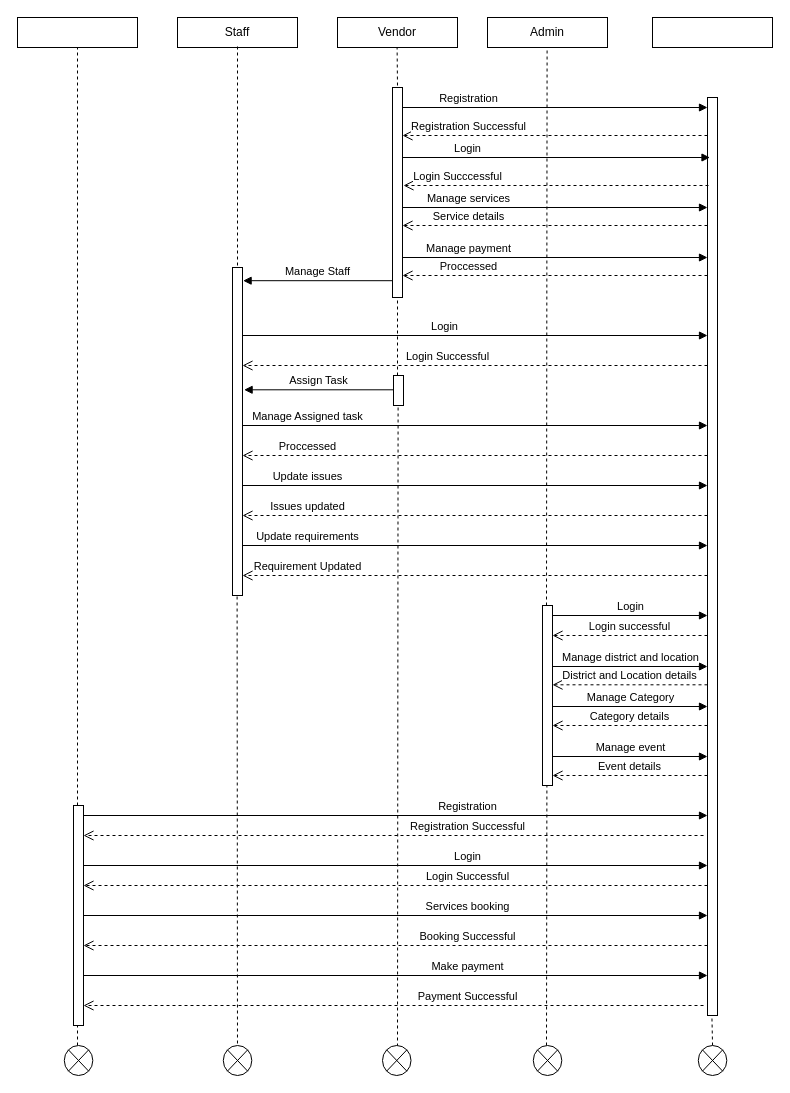
Image size: 790x1093. Some labels were removed from this diagram. The shapes that lost their labels are listed below. From the top down, each one's box as (x1, y1, x2, y2) in pixels, then its label:
(16, 16, 138, 48): Client
(652, 16, 772, 48): Wedding palnner
